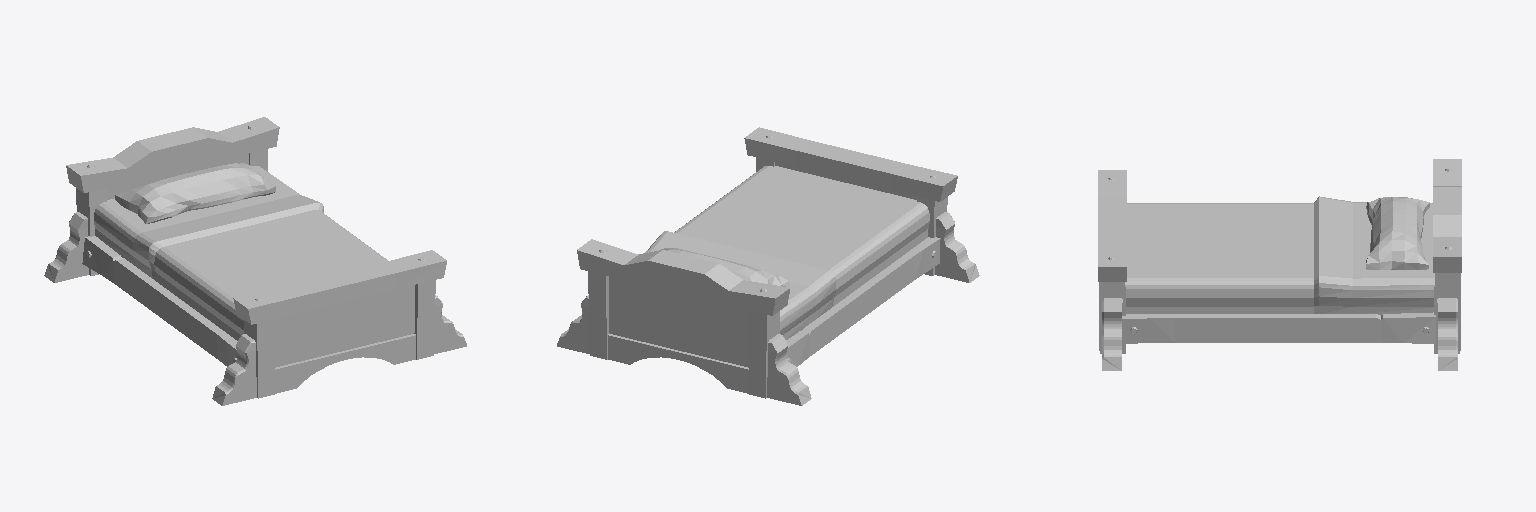
File: Bed_Twin1.obj
The picture shows the model from 3 angles: view 1: azimuth 30°, elevation 25°; view 2: azimuth 150°, elevation 25°; view 3: azimuth 270°, elevation 25°; orthographic projection.
Visible parts, largest first — view 1: Bed_Twin1_Cube.188; view 2: Bed_Twin1_Cube.188; view 3: Bed_Twin1_Cube.188.
Boxes of the visible parts, x1=… form: Bed_Twin1_Cube.188: x1=44, y1=117, x2=466, y2=405; Bed_Twin1_Cube.188: x1=557, y1=127, x2=979, y2=405; Bed_Twin1_Cube.188: x1=1098, y1=159, x2=1461, y2=370.
Bounding box in the file's own units: 1.88 × 0.8051 × 2.41.